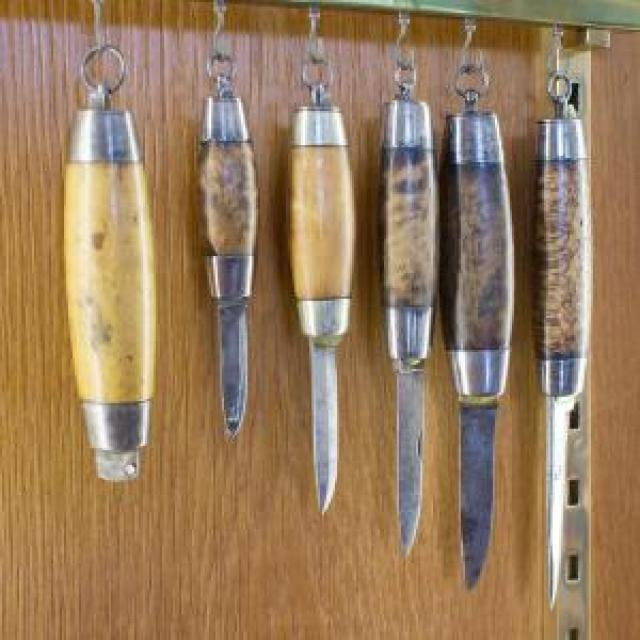knife: (446, 90, 520, 597), (537, 102, 590, 605), (290, 102, 352, 513), (380, 90, 426, 561), (203, 84, 257, 438)
